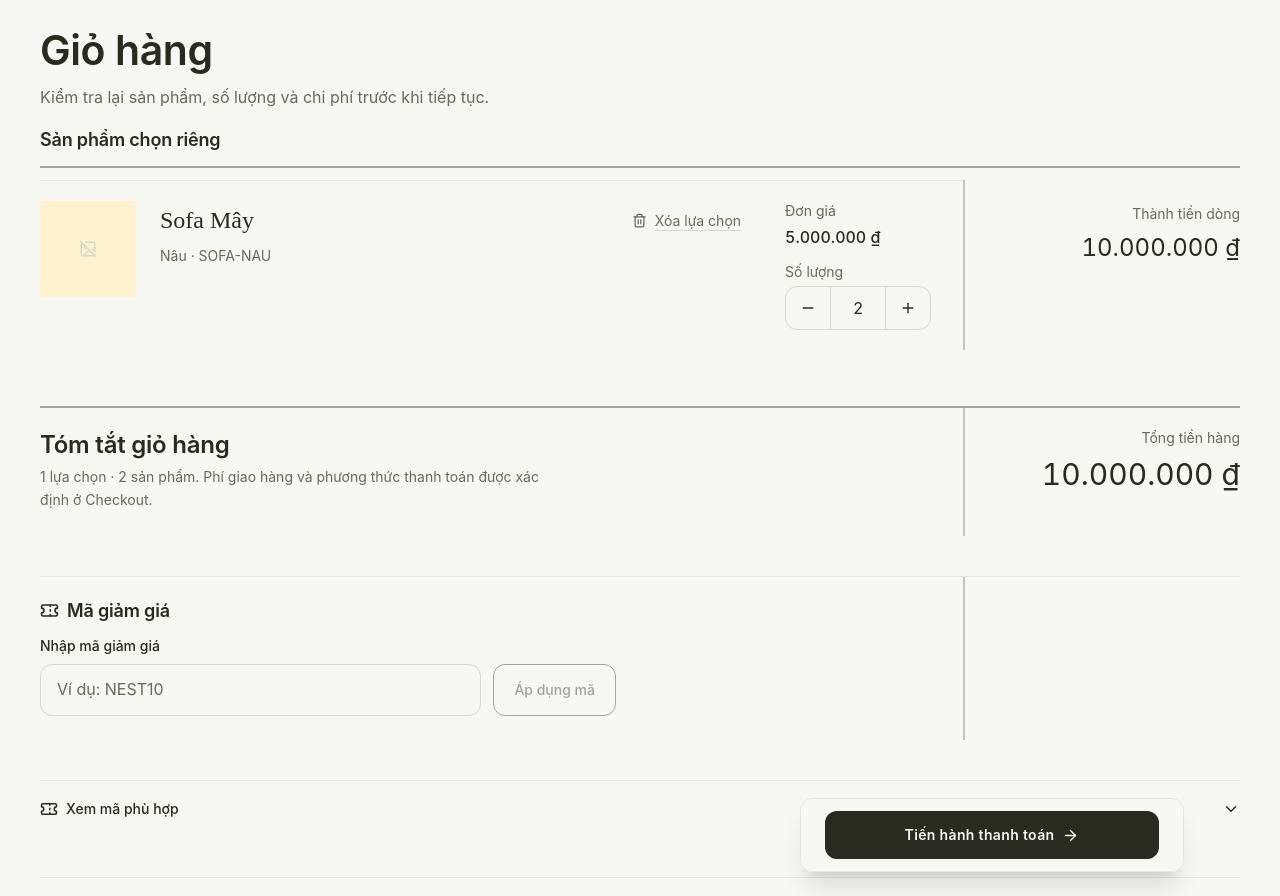
Scenario: CartPage › explains the best voucher and lets the customer remove it before checkout
Click the heading "Xem mã phù hợp" at [122, 808], box x1=40 y1=800 x2=1240 y2=818
(page scrolled)
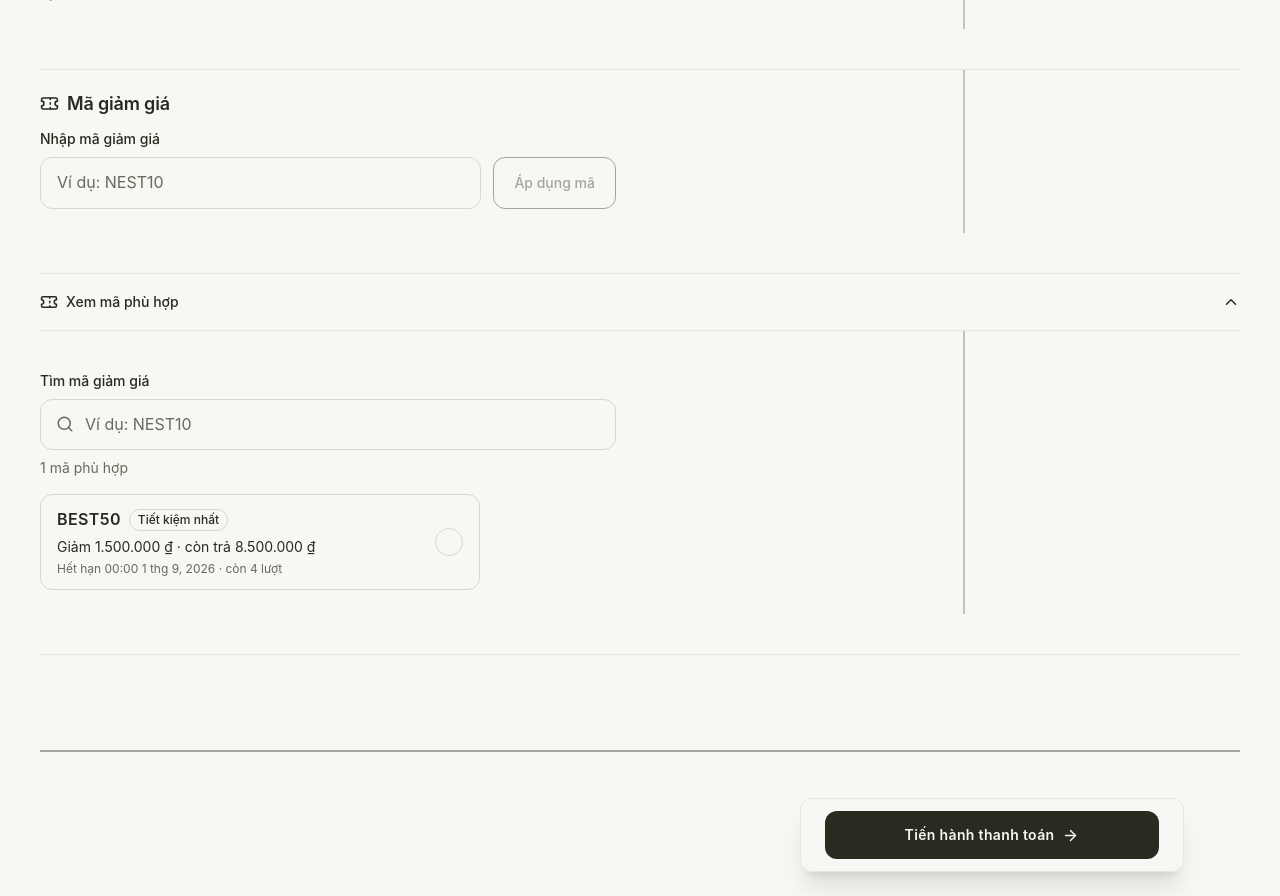
Expected: the text "Tiết kiệm nhất" is shown, x1=129 y1=509 x2=228 y2=531
Expected: the text "Giảm 1.500.000 ₫ · còn trả 8.500.000 ₫" is shown, x1=57 y1=537 x2=315 y2=557
Expected: the text "còn 4 lượt" is shown, x1=215 y1=561 x2=282 y2=576
Click the radio button labelled "BEST50" at [260, 542], box x1=40 y1=494 x2=480 y2=590
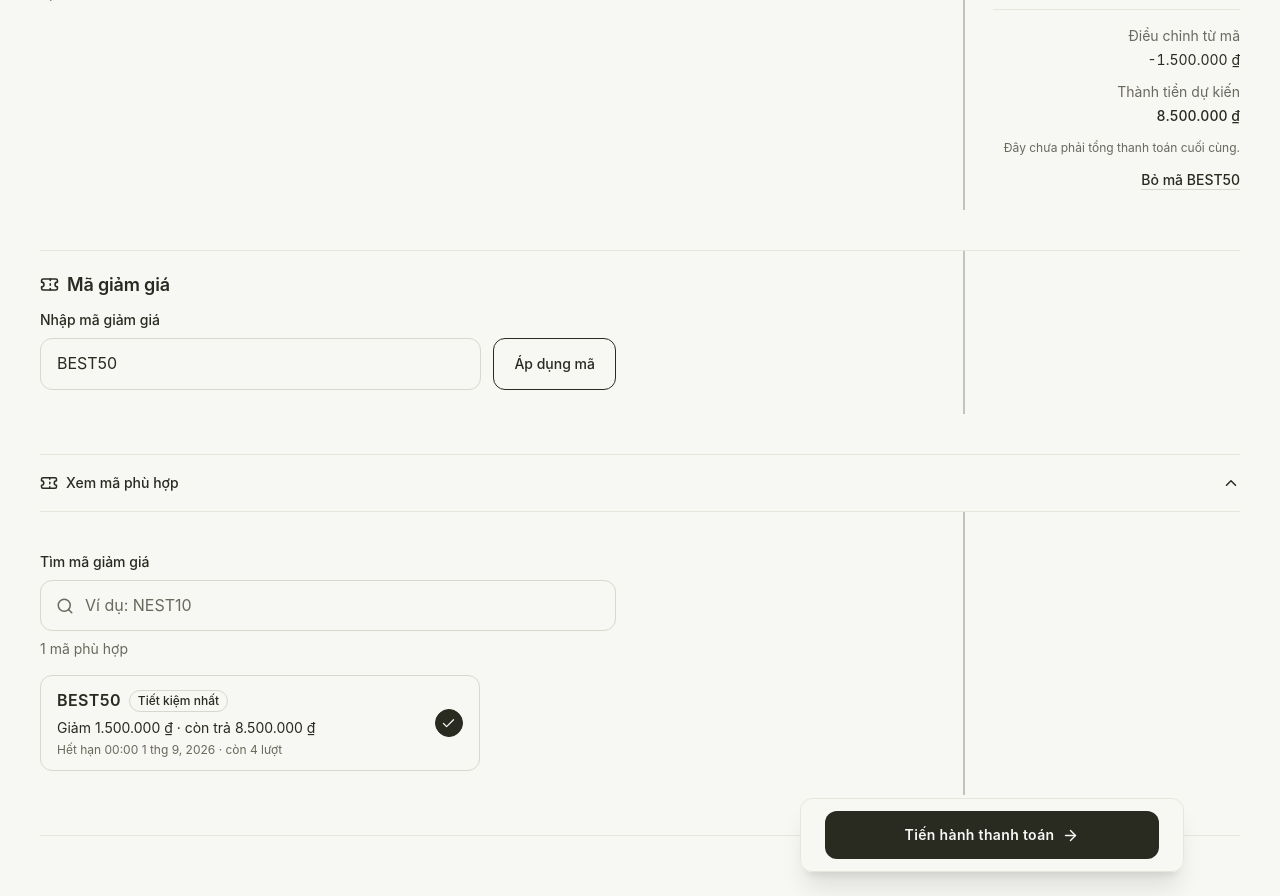
Click the button "Bỏ mã BEST50" at [1191, 180], box x1=1141 y1=170 x2=1240 y2=190
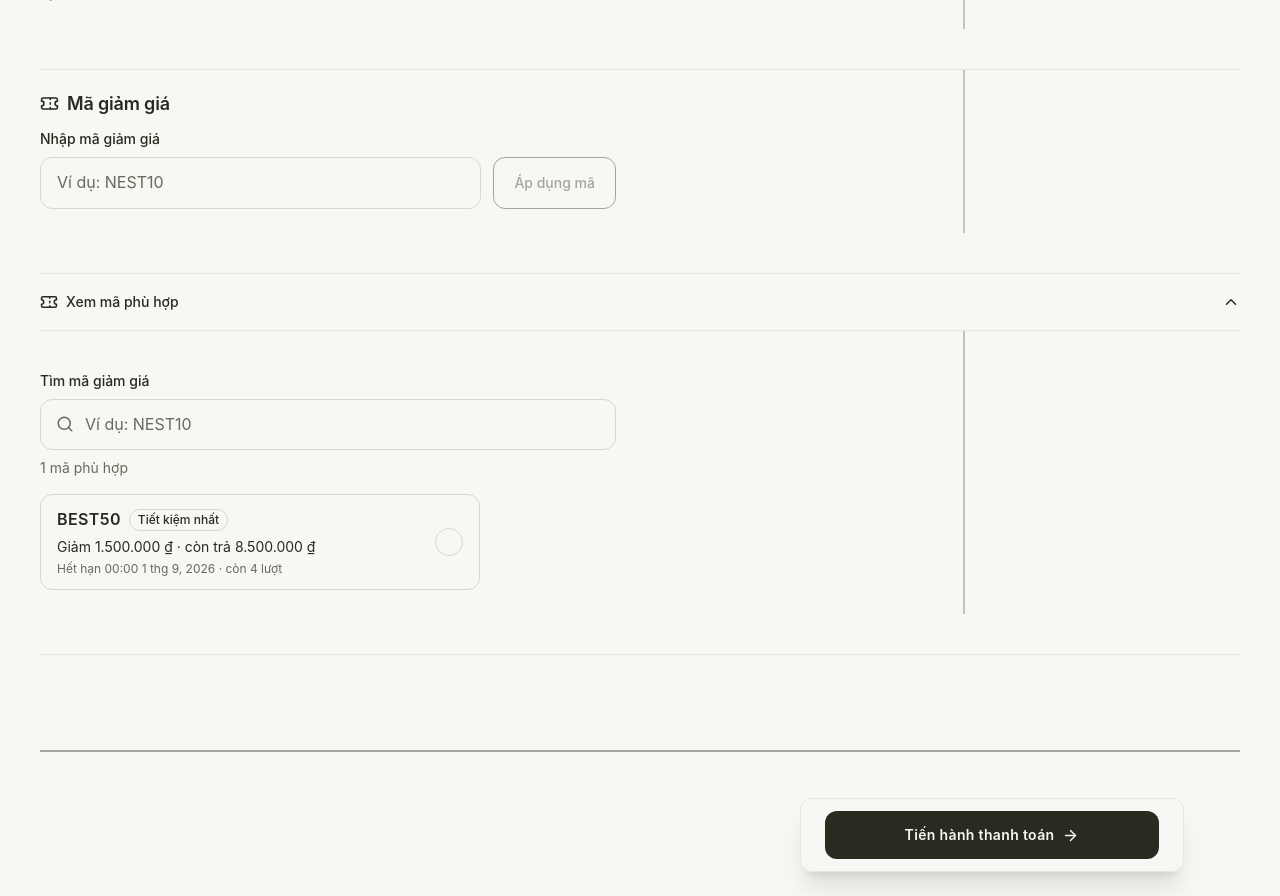
Expected: the text "Thành tiền dự kiến" is gone
